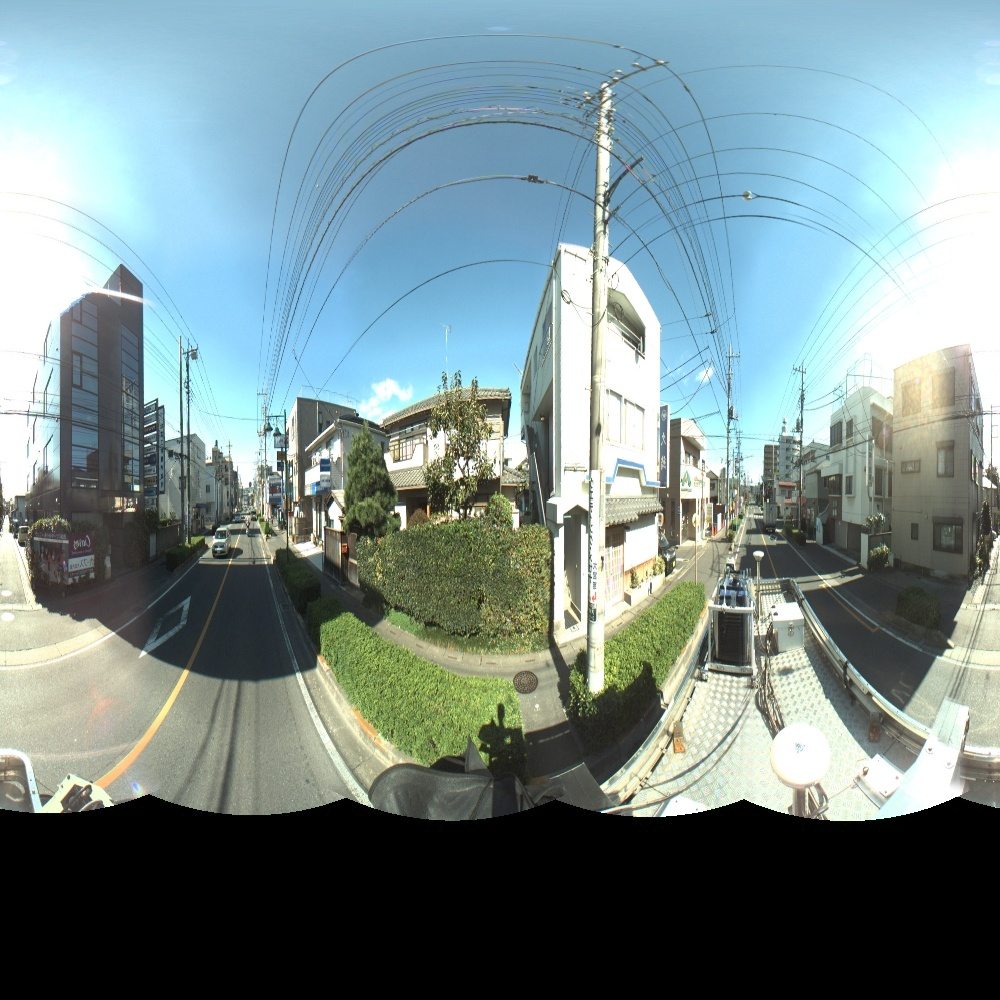car: (211, 527, 228, 557)
warning_line: (139, 596, 190, 662)
